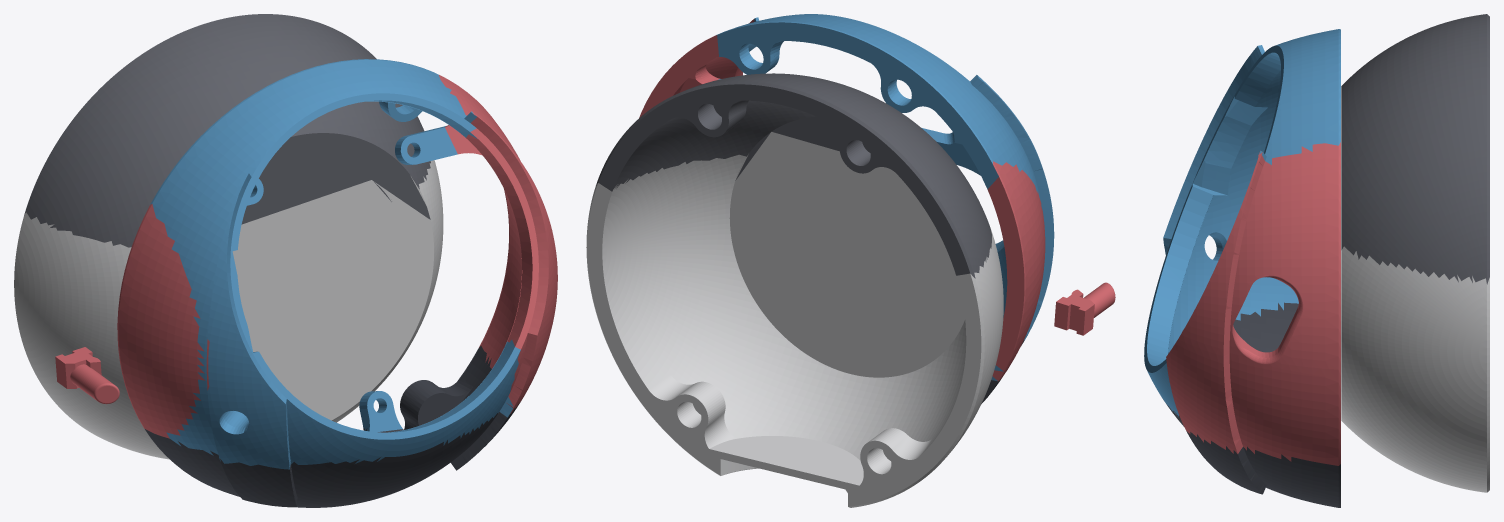
File: poketama-great.glb
3 views of the same model, side by side, from view 1: azimuth 30°, elevation 25°; view 2: azimuth 150°, elevation 25°; view 3: azimuth 270°, elevation 25° (orthographic). The views are drawn at different scales.
Size of the model in its own units: 2.29 by 1.93 by 1.43.
